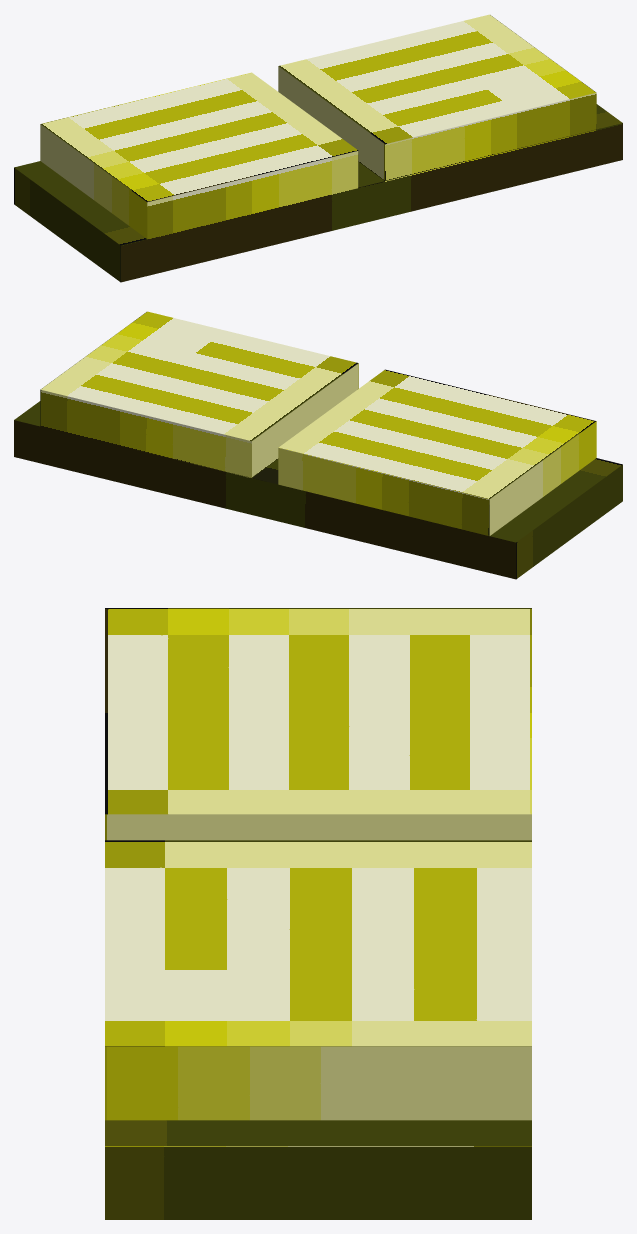
The model's file is book_0x282_00.glb.
3 views of the same model, one above another, from view 1: azimuth 30°, elevation 25°; view 2: azimuth 150°, elevation 25°; view 3: azimuth 270°, elevation 25° (orthographic). The views are drawn at different scales.
Visible parts, largest first — view 1: Cube; view 2: Cube; view 3: Cube.
Boxes of the visible parts, box(x1,y1,x2,y2) form: Cube: box(14, 14, 622, 282); Cube: box(14, 311, 622, 579); Cube: box(105, 608, 531, 1219).
Bounding box in the file's own units: 1.19 × 0.1667 × 0.4375.
Materials: 1 (1 with a texture image).
